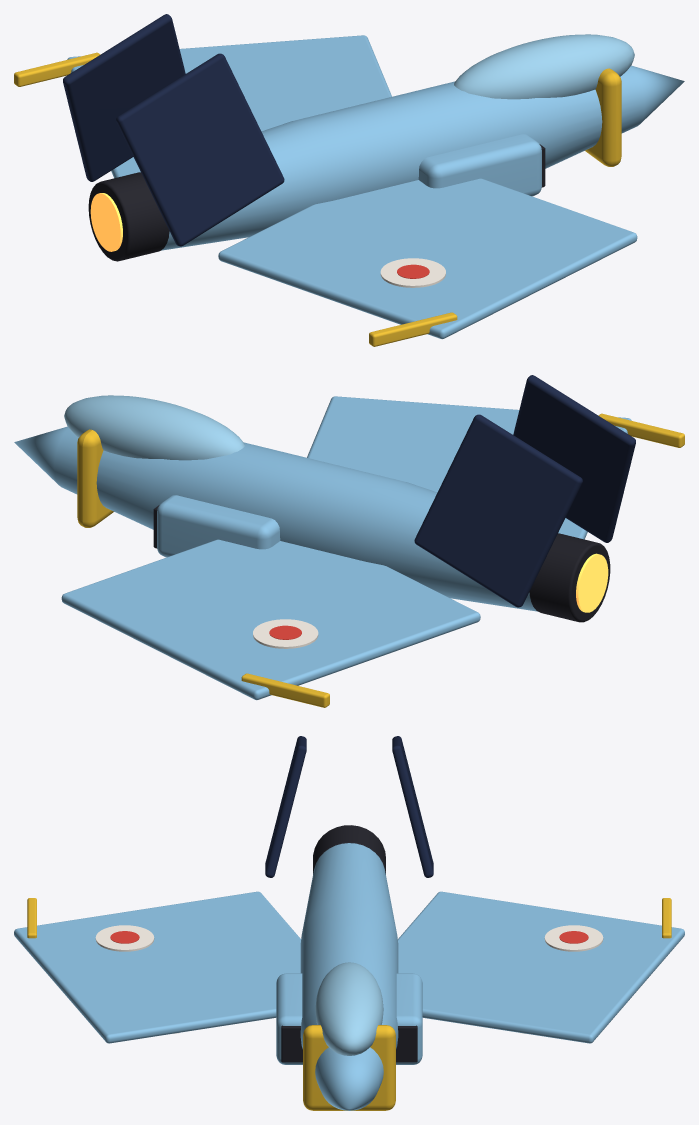
The model's file is jet.glb.
The picture shows the model from 3 angles, top to bottom: view 1: azimuth 30°, elevation 25°; view 2: azimuth 150°, elevation 25°; view 3: azimuth 270°, elevation 25°; orthographic projection. The views are drawn at different scales.
Visible parts, largest first — view 1: jet; view 2: jet; view 3: jet.
Part boxes in pixels (x1,y1,x2,y2): jet: (14, 14, 684, 346); jet: (14, 375, 684, 707); jet: (14, 736, 684, 1110).
Bounding box in the file's own units: 12.57 × 4.47 × 13.75.
Materials: 1 (1 with a texture image).
